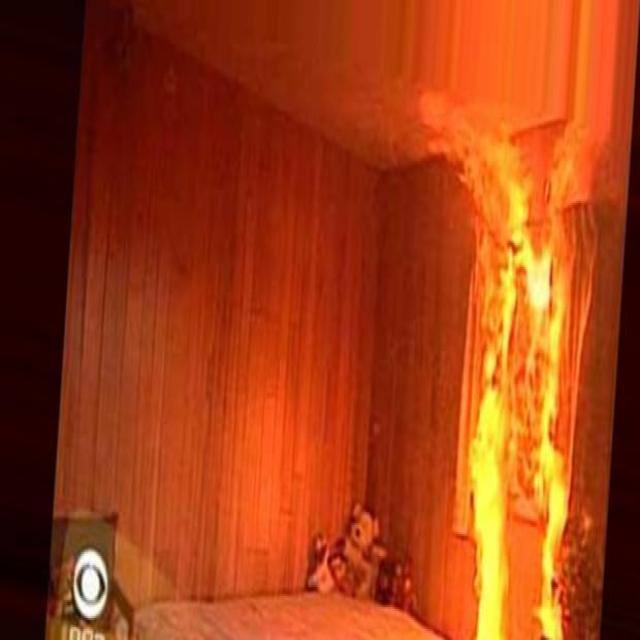fire: (426, 68, 605, 636)
